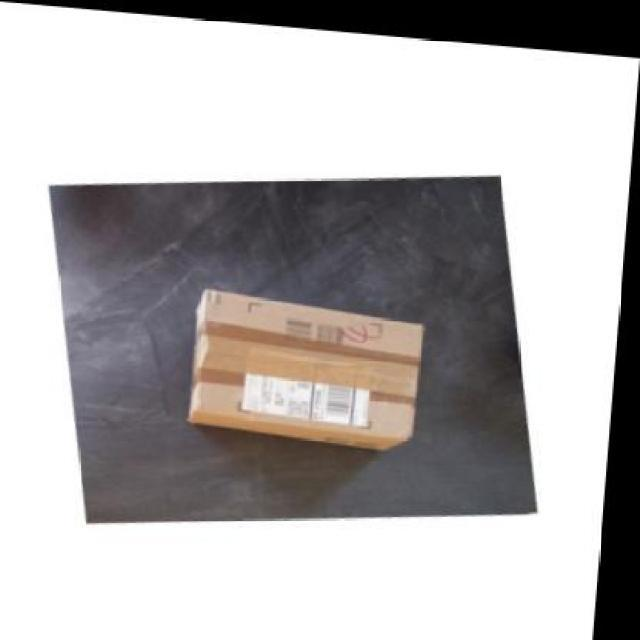box: (189, 284, 426, 446)
